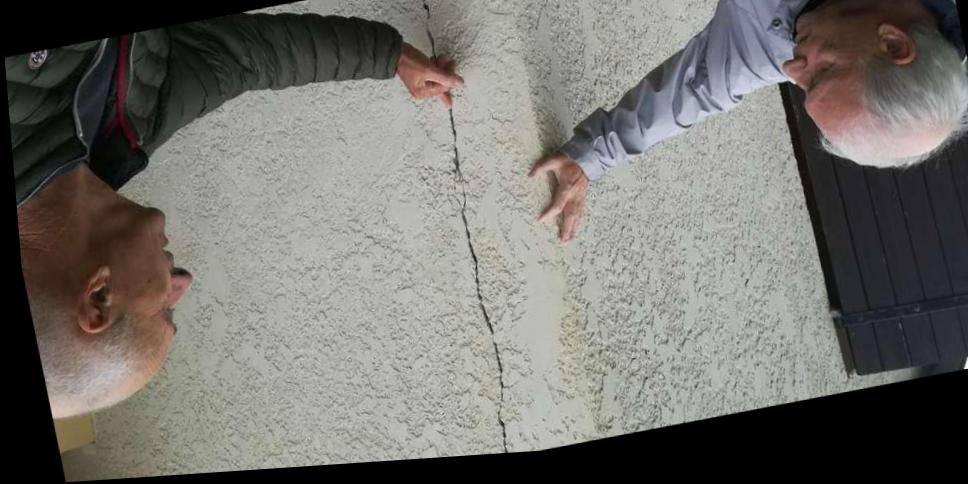crack: (463, 250, 500, 460), (421, 0, 458, 170), (450, 170, 467, 240)
